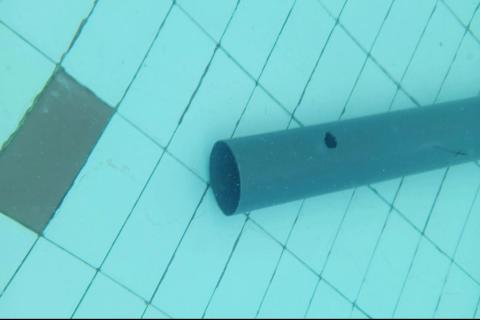kebocoran: (323, 131, 338, 149)
keretakan: (437, 143, 469, 157)
